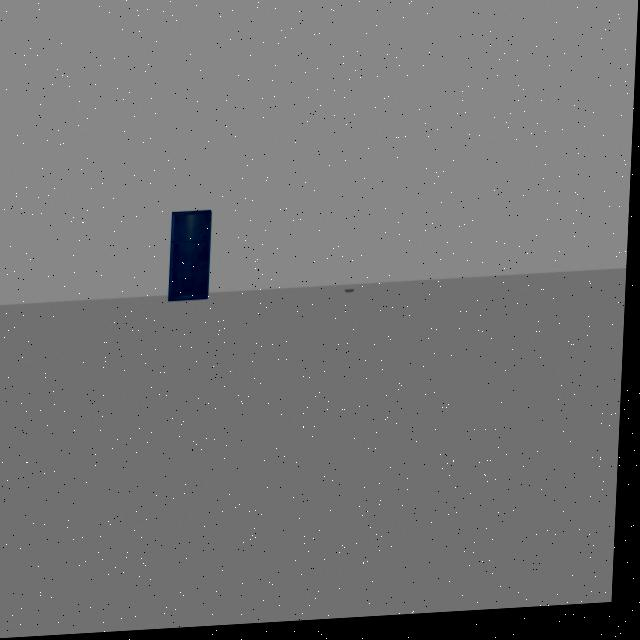bowl: (342, 287, 366, 307)
shelf: (163, 197, 224, 315)
